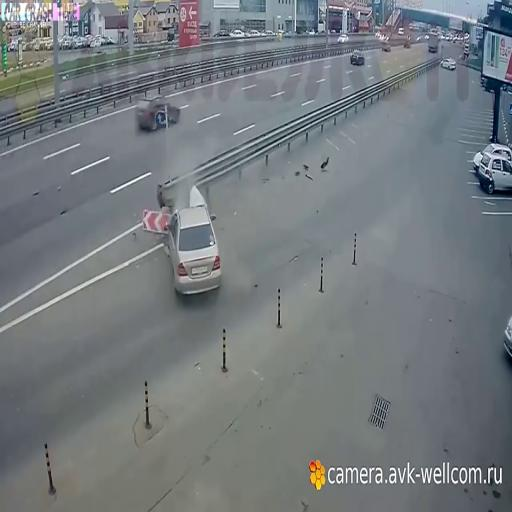小汽车: (168, 204, 221, 302), (136, 89, 180, 134), (478, 147, 512, 196), (348, 48, 368, 68), (438, 53, 458, 73), (426, 28, 440, 56), (335, 32, 352, 46), (379, 37, 393, 54)
